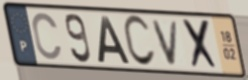9: (65, 12, 92, 64)
A: (96, 14, 132, 65)
C: (121, 13, 158, 69), (30, 11, 64, 62)
V: (150, 18, 181, 67)
X: (180, 18, 221, 73)
